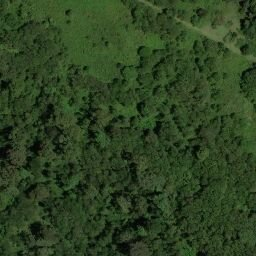forest: (1, 150, 256, 256), (1, 82, 224, 151), (1, 19, 52, 82), (137, 46, 224, 82), (130, 4, 190, 32), (162, 33, 188, 82), (241, 66, 256, 99)
